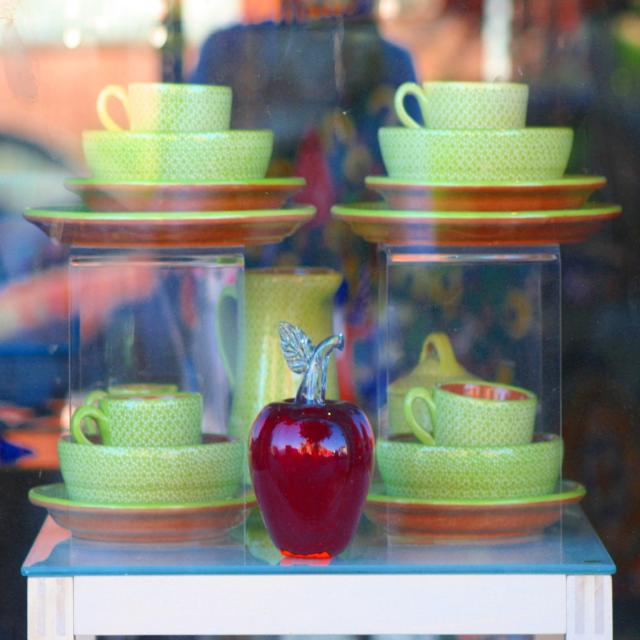Healty Apple: (238, 349, 378, 556)
